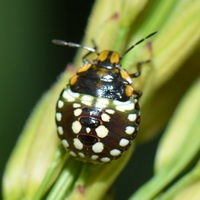insect: (53, 31, 156, 163)
